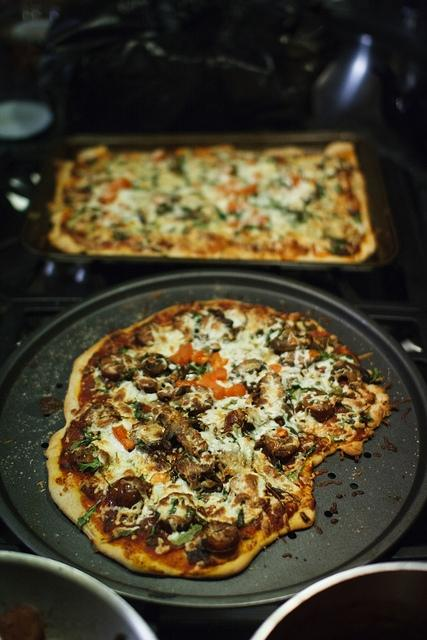mushroom: (161, 417, 209, 458), (200, 520, 241, 559), (168, 385, 214, 417), (106, 476, 152, 506), (262, 426, 300, 460), (177, 459, 214, 490), (224, 408, 262, 434), (222, 304, 248, 335), (231, 358, 268, 379), (157, 516, 193, 535), (267, 331, 299, 351), (304, 403, 335, 423), (100, 358, 126, 380), (156, 378, 175, 404), (145, 357, 168, 374), (136, 377, 158, 393), (134, 331, 154, 347), (245, 473, 258, 491), (344, 368, 358, 384), (141, 438, 162, 447), (72, 446, 82, 458), (338, 374, 348, 384)
